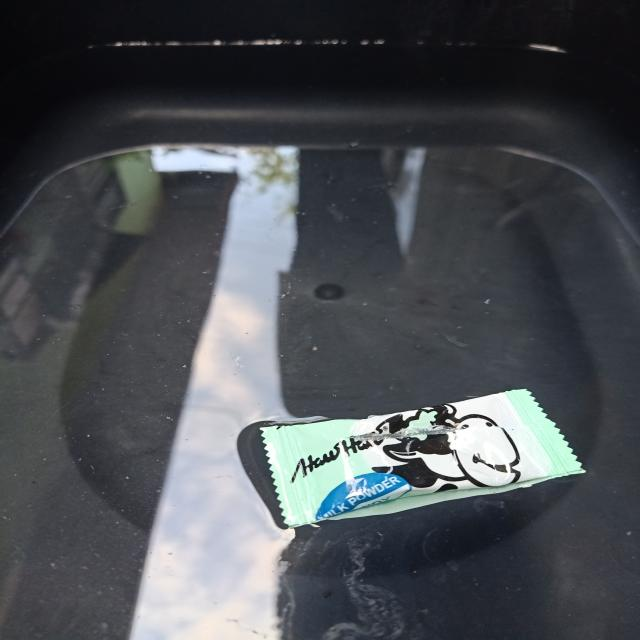Plastic Wrapper: (257, 389, 584, 527)
